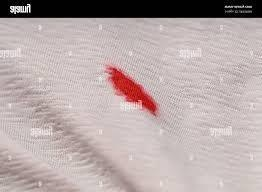blood: (104, 65, 160, 115)
